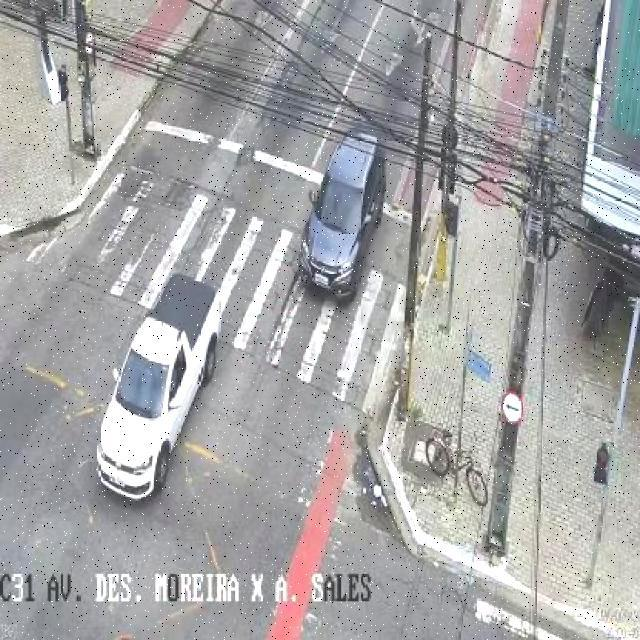Car: (99, 276, 222, 500), (301, 128, 382, 300)
Cycle: (424, 424, 497, 509)
